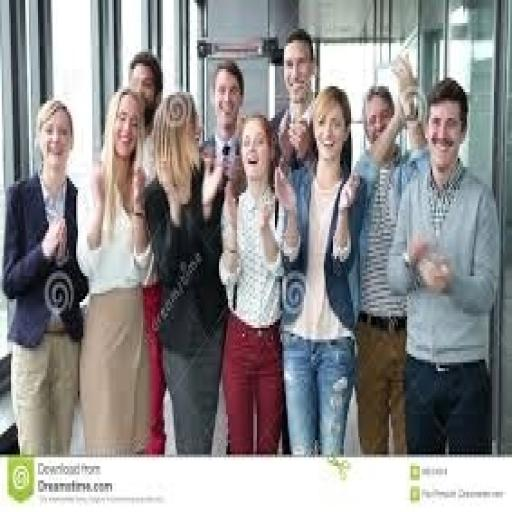clapping: (386, 75, 502, 454), (347, 52, 429, 454), (273, 84, 360, 458), (138, 89, 226, 455), (0, 95, 89, 454), (74, 84, 156, 454), (215, 112, 293, 455), (268, 26, 318, 175)
